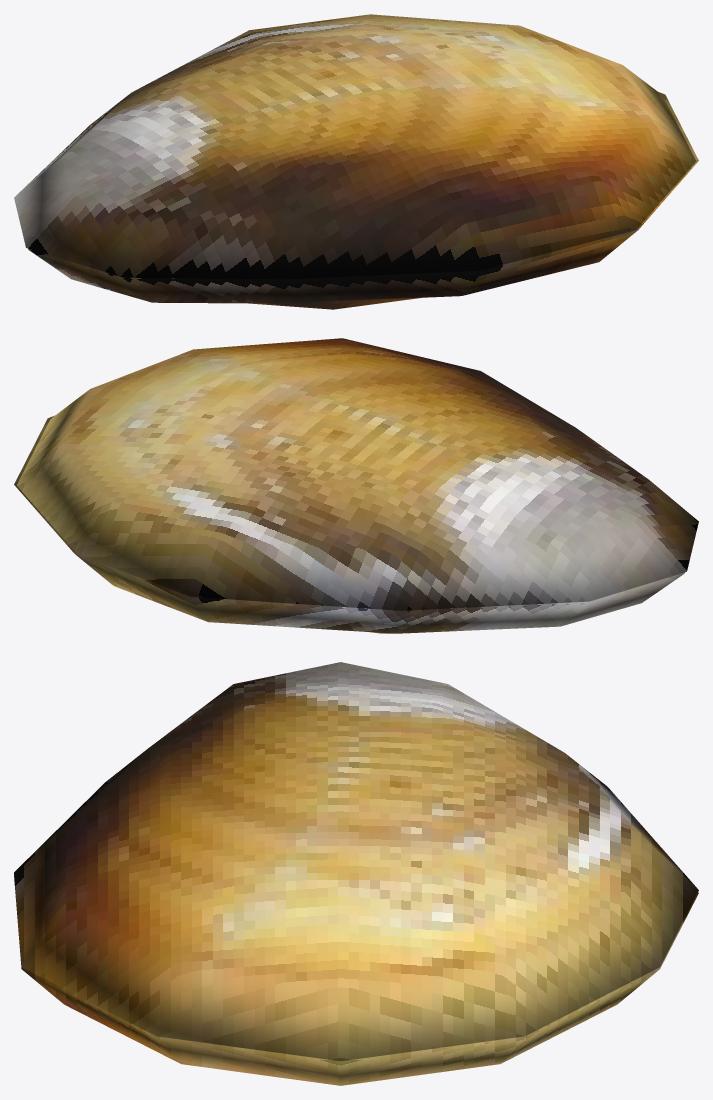
Rendered from clamold.glb.
The picture shows the model from 3 angles, top to bottom: view 1: azimuth 30°, elevation 25°; view 2: azimuth 150°, elevation 25°; view 3: azimuth 270°, elevation 25°; orthographic projection. The views are drawn at different scales.
Visible parts, largest first — view 1: clam.ms3d.mo; view 2: clam.ms3d.mo; view 3: clam.ms3d.mo.
Boxes of the visible parts, x1,y1,x2,y2 form: clam.ms3d.mo: [14, 14, 698, 309]; clam.ms3d.mo: [14, 338, 698, 633]; clam.ms3d.mo: [14, 662, 698, 1085].
Size of the model in its own units: 21.27 by 5.16 by 16.35.
1 material, 1 textured.
